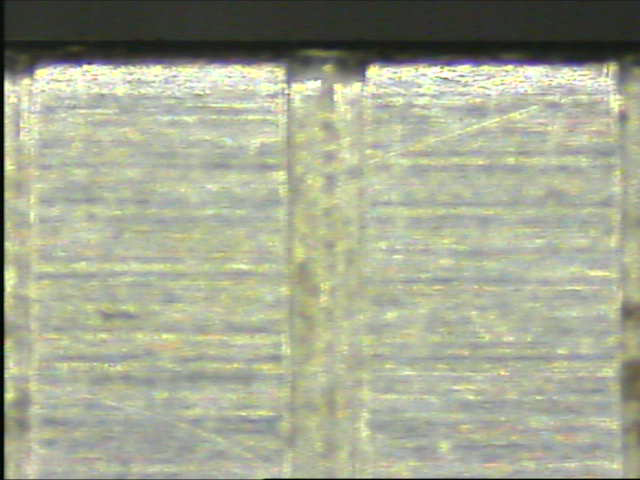line: (284, 48, 371, 476)
